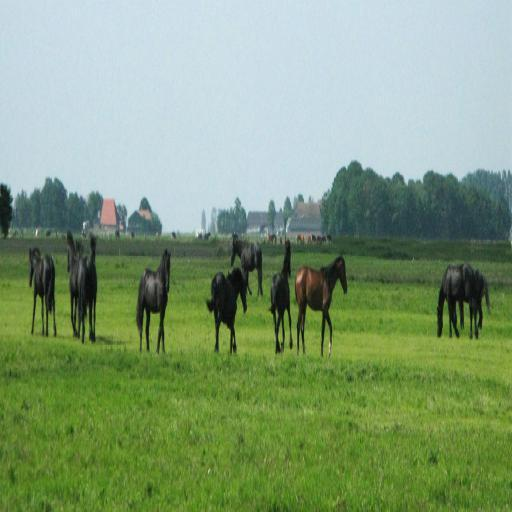horse: (295, 252, 348, 358), (135, 248, 170, 356), (205, 269, 247, 355), (437, 262, 475, 342), (268, 239, 292, 354), (68, 230, 90, 350), (29, 246, 57, 340), (454, 266, 491, 330), (231, 234, 263, 298), (82, 235, 98, 343)
